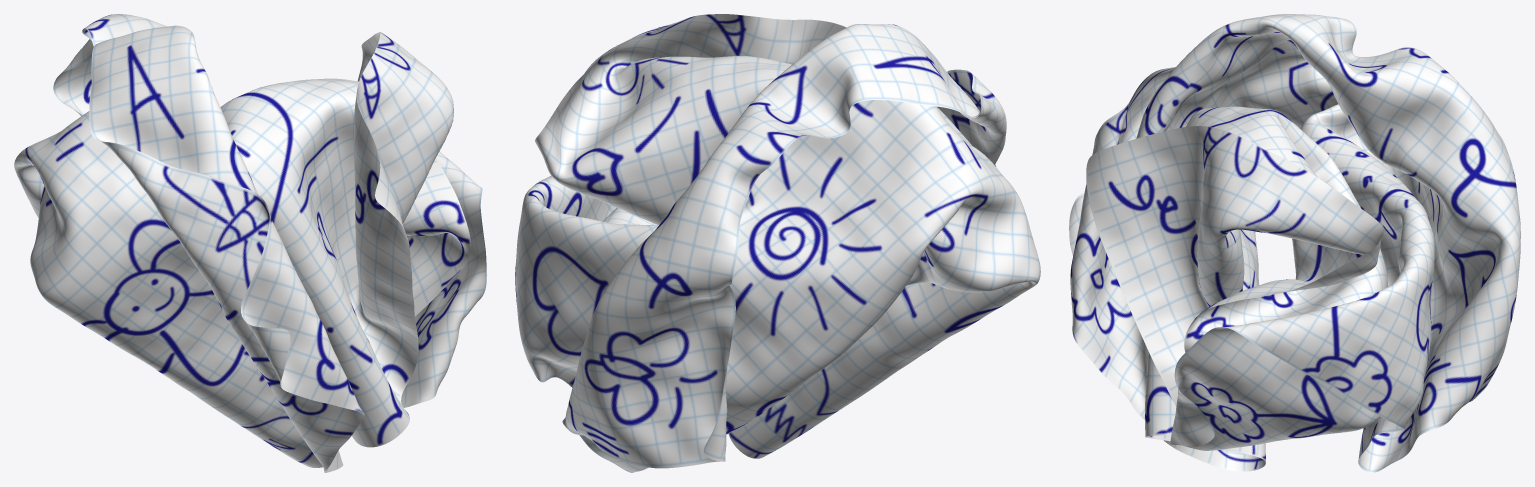
Rendered from crumple.fbx.
3 renders of one model, left to right at view 1: azimuth 30°, elevation 25°; view 2: azimuth 150°, elevation 25°; view 3: azimuth 270°, elevation 25°, orthographic. The views are drawn at different scales.
Visible parts, largest first — view 1: paper; view 2: paper; view 3: paper.
Boxes of the visible parts, x1,y1,x2,y2 form: paper: (14,14,486,472); paper: (515,14,1040,472); paper: (1069,14,1520,472).
Size of the model in its own units: 96.86 by 92.46 by 92.98.
Materials: 1 (1 with a texture image).
